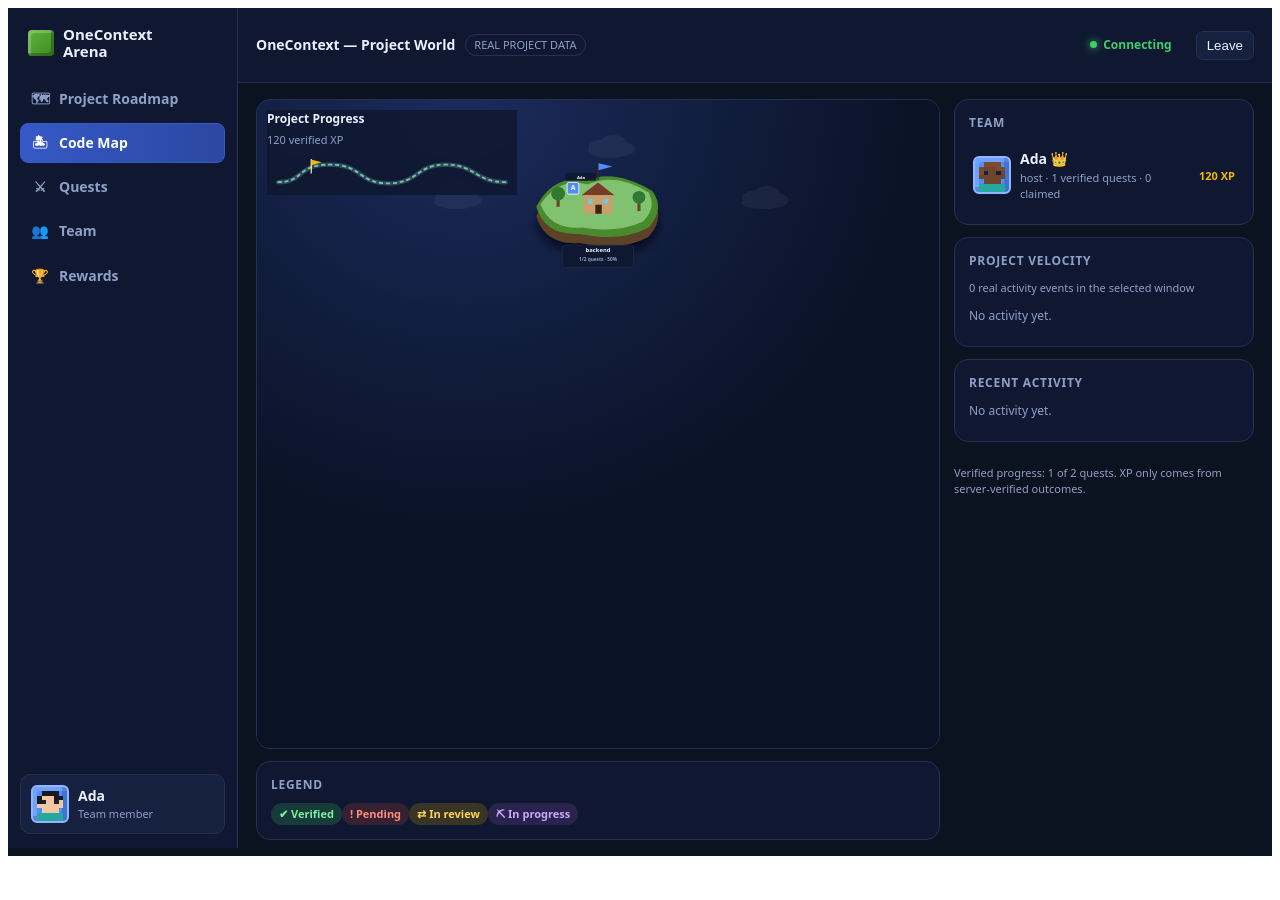
ArenaWorkspace › shows verified XP from the server leaderboard and verified quest rewards only
This screenshot has width=1280, height=900.
Click the tab "👥 Team": (122, 232) [20, 211, 225, 252]
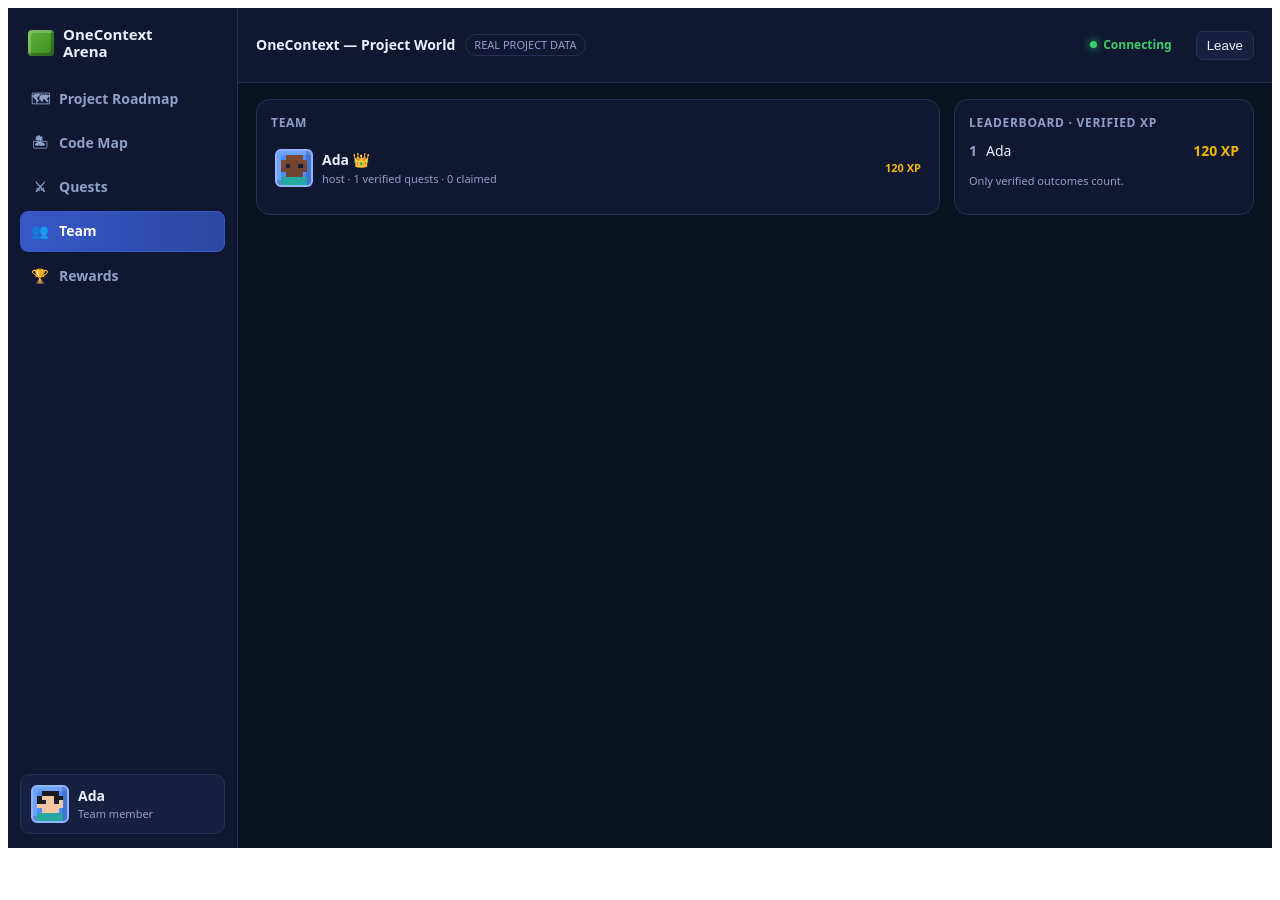
Expected: the text "120 XP" in the row of "claimed" is shown, [885, 160, 921, 176]
Click the tab "🏆 Rewards": (122, 276) [20, 256, 225, 296]
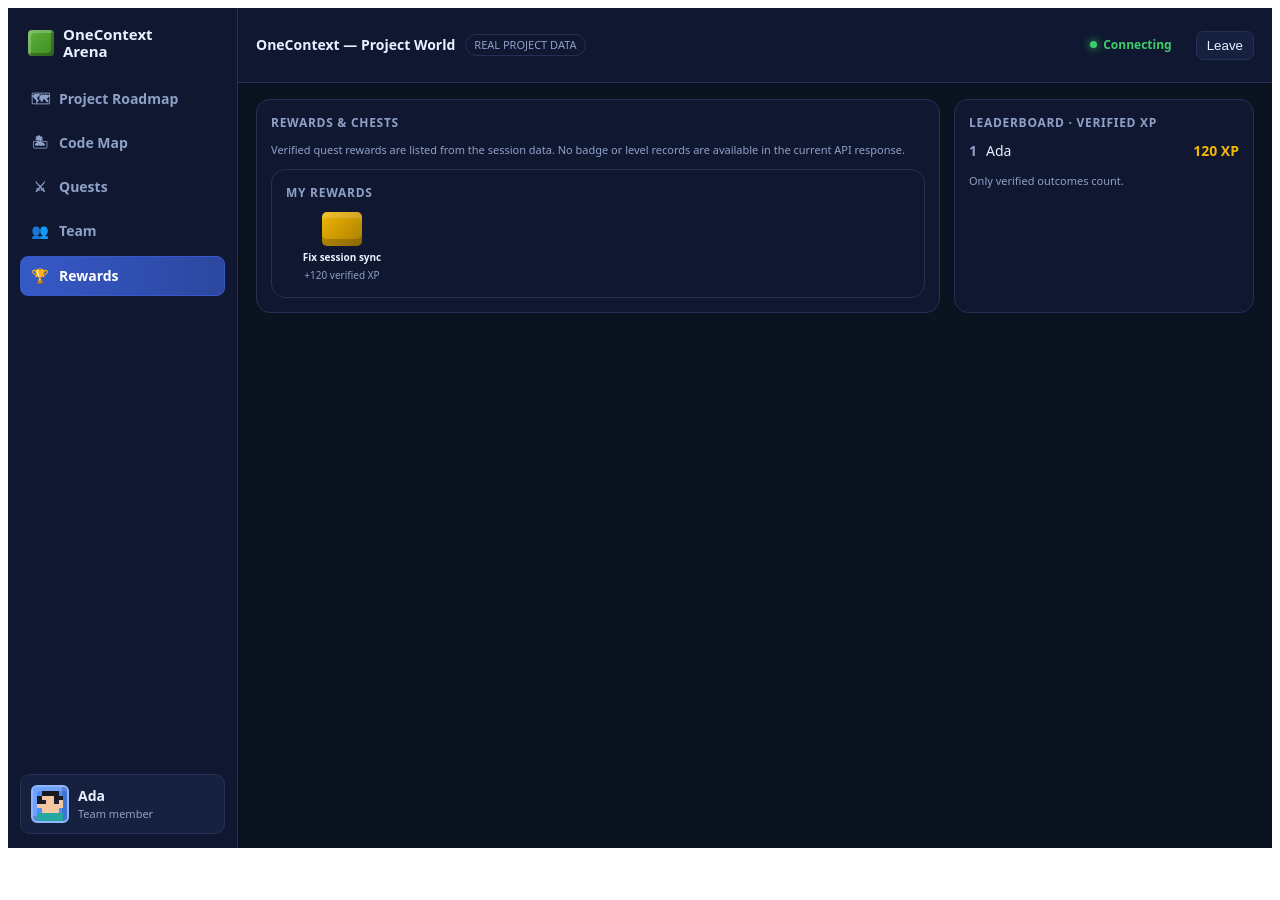
Expected: the text "Fix session sync" is shown, [303, 250, 381, 264]
